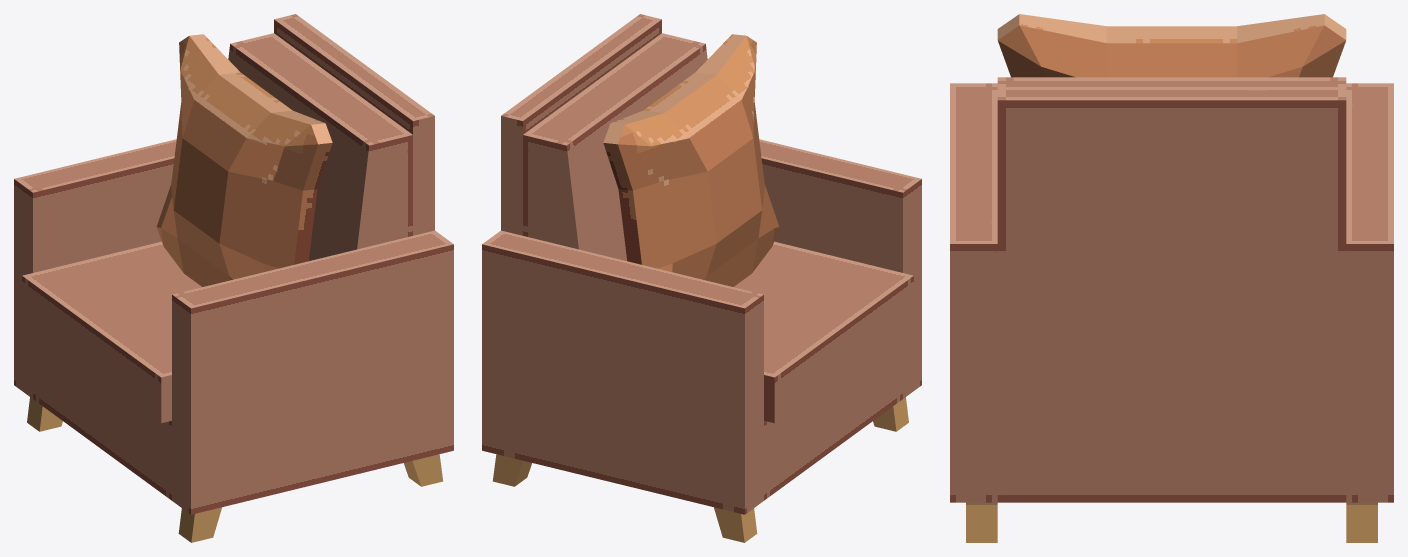
The model's file is couch.gltf.
3 renders of one model, left to right at view 1: azimuth 30°, elevation 25°; view 2: azimuth 150°, elevation 25°; view 3: azimuth 270°, elevation 25°, orthographic. The views are drawn at different scales.
Parts seen in each view (by area): view 1: couch, pillow, legs; view 2: couch, pillow, legs; view 3: couch, pillow, legs.
Part boxes in pixels (x1,y1,x2,y2): couch: [14, 14, 453, 514]; pillow: [156, 34, 332, 286]; legs: [27, 397, 443, 542]; couch: [482, 14, 921, 514]; pillow: [603, 34, 779, 286]; legs: [492, 397, 908, 542]; couch: [950, 77, 1393, 502]; pillow: [997, 14, 1346, 77]; legs: [966, 502, 1377, 542].
Bounding box in the file's own units: 1.56 × 2.01 × 1.75.
Materials: 3 (3 with a texture image).
